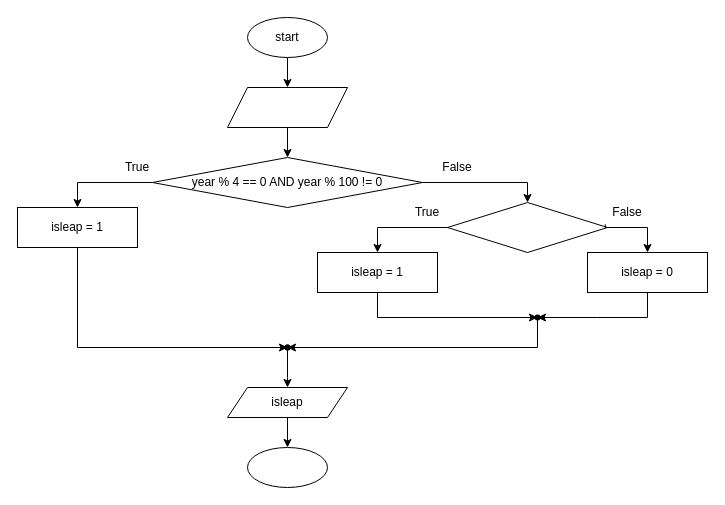
Some shapes in this 725 by 505 pixel diagram are drawn without their labels. The shapes that lost their labels are listed below. From the top down, each one's box as (x1, y1, x2, y2) in pixels, then its label:
(226, 86, 348, 128): year
(446, 202, 608, 252): year % 400 == 0
(246, 446, 328, 488): end
